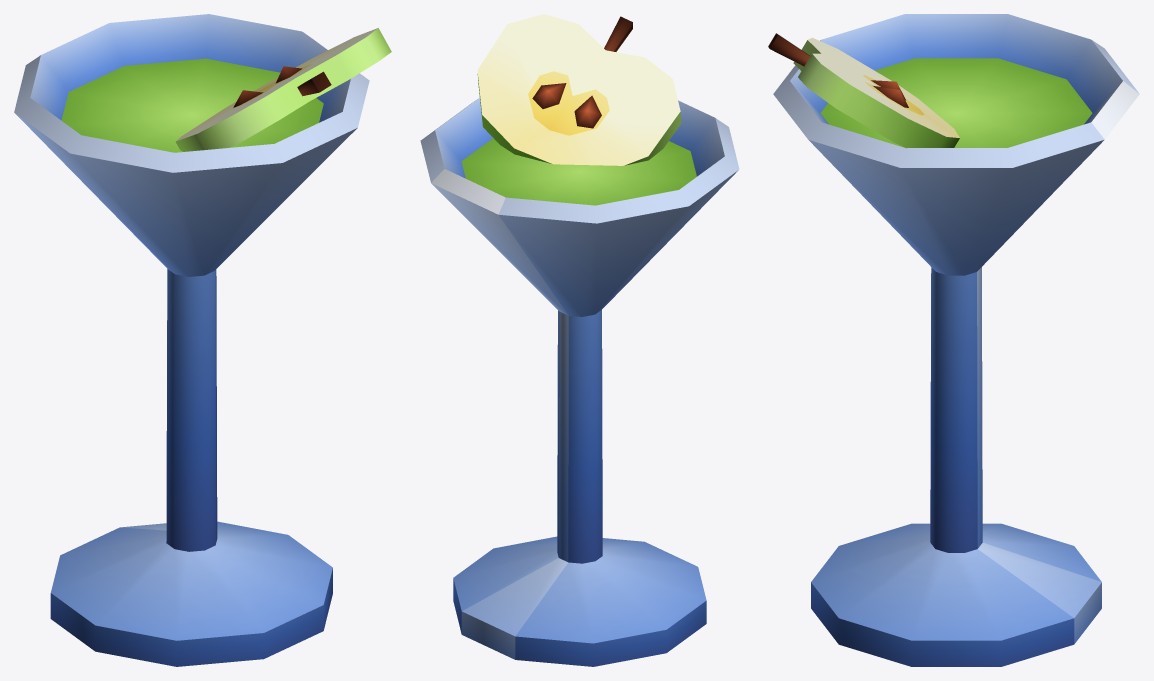
File: m_AppleMartini01.fbx
3 views of the same model, side by side, from view 1: azimuth 30°, elevation 25°; view 2: azimuth 150°, elevation 25°; view 3: azimuth 270°, elevation 25° (orthographic). The views are drawn at different scales.
Visible parts, largest first — view 1: m_AppleMartini01; view 2: m_AppleMartini01; view 3: m_AppleMartini01.
Boxes of the visible parts, <box> form: m_AppleMartini01: <box>14,14,391,666</box>; m_AppleMartini01: <box>420,14,739,666</box>; m_AppleMartini01: <box>768,14,1139,666</box>.
Bounding box in the file's own units: 11.98 × 22.64 × 12.77.
